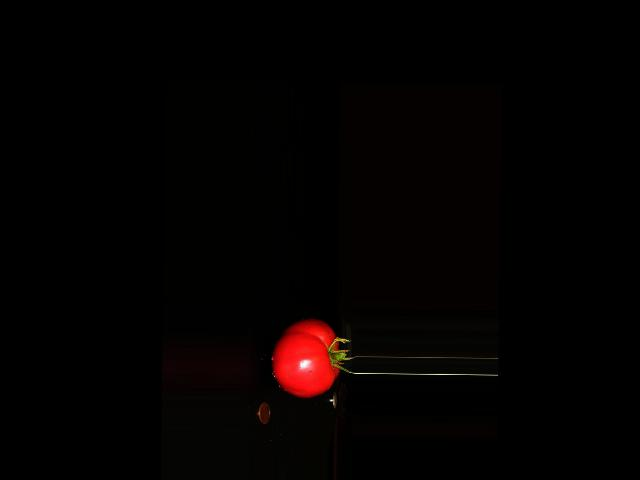tomato: (270, 317, 340, 398)
